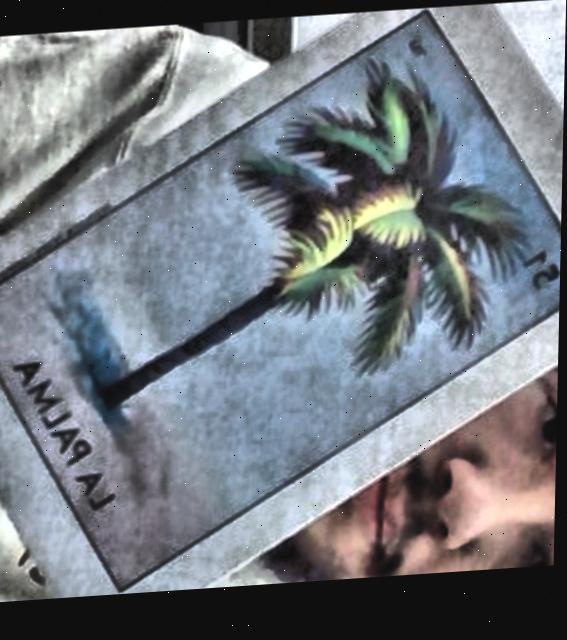La Palma: (0, 20, 562, 592)
